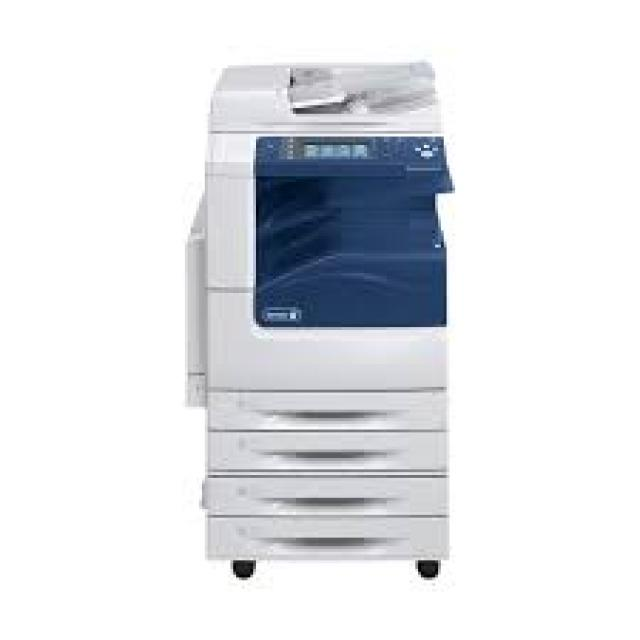printer: (173, 49, 464, 588)
